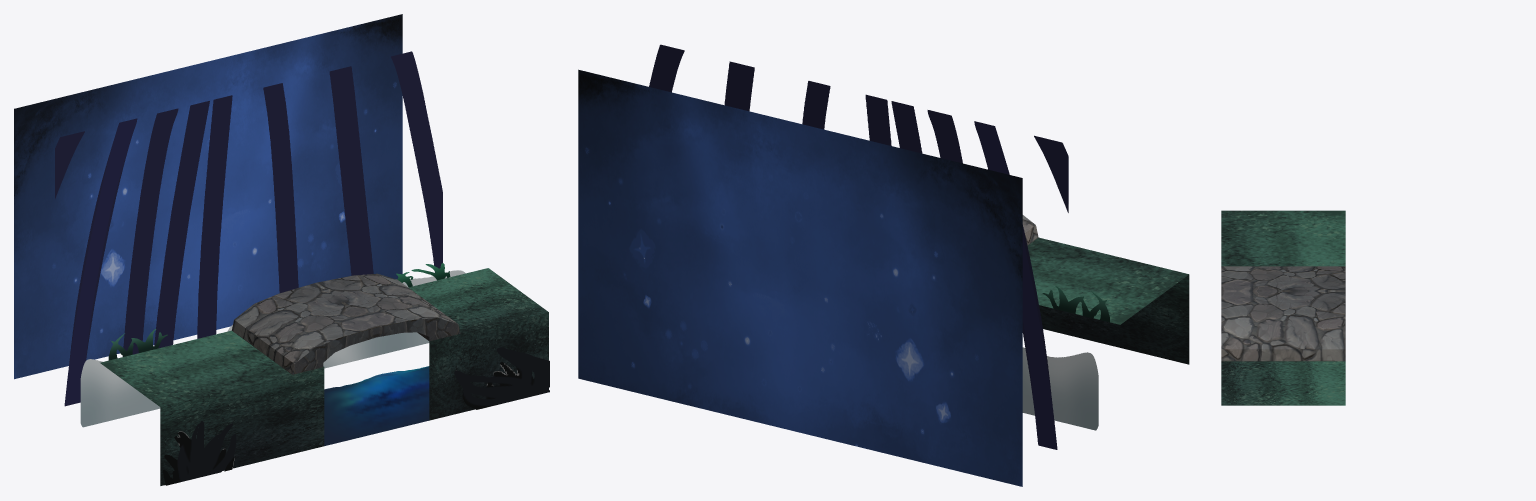
Rendered from BG_All.fbx.
3 renders of one model, left to right at view 1: azimuth 30°, elevation 25°; view 2: azimuth 150°, elevation 25°; view 3: azimuth 270°, elevation 25°, orthographic. The views are drawn at different scales.
Visible parts, largest first — view 1: polySurface2, polySurface10, polySurface27, polySurface28_polySurface32_polySurface32, polySurface29, polySurface14, polySurface9, polySurface20, polySurface19, polySurface18; view 2: polySurface2, polySurface27, polySurface10, polySurface9, polySurface18; view 3: polySurface28_polySurface32_polySurface32, polySurface27, polySurface29.
Boxes of the visible parts, bbox=[...] form: polySurface2: bbox=[14, 14, 402, 379]; polySurface10: bbox=[55, 51, 442, 406]; polySurface27: bbox=[100, 330, 324, 485]; polySurface28_polySurface32_polySurface32: bbox=[232, 273, 460, 374]; polySurface29: bbox=[408, 268, 548, 420]; polySurface14: bbox=[324, 366, 429, 445]; polySurface9: bbox=[80, 270, 465, 427]; polySurface20: bbox=[454, 347, 549, 409]; polySurface19: bbox=[162, 421, 236, 485]; polySurface18: bbox=[108, 329, 167, 360]; polySurface2: bbox=[578, 69, 1022, 486]; polySurface27: bbox=[1027, 237, 1189, 364]; polySurface10: bbox=[649, 44, 1068, 449]; polySurface9: bbox=[1022, 347, 1098, 430]; polySurface18: bbox=[1042, 286, 1109, 322]; polySurface28_polySurface32_polySurface32: bbox=[1221, 266, 1345, 361]; polySurface27: bbox=[1221, 210, 1345, 266]; polySurface29: bbox=[1221, 361, 1345, 405].
Size of the model in its own units: 24.83 by 16.51 by 16.28.
